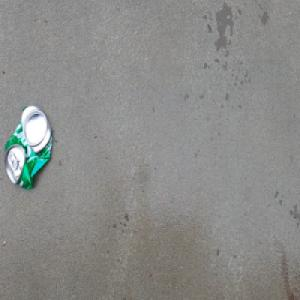SodaCan: (2, 103, 52, 193)
